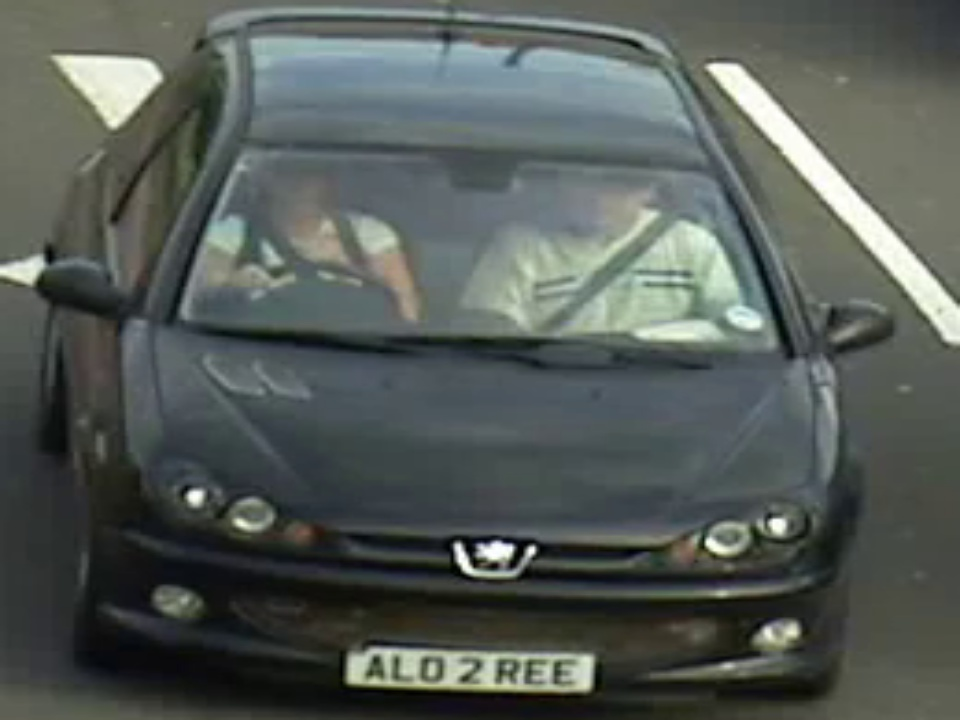TWO: (170, 134, 774, 357)
